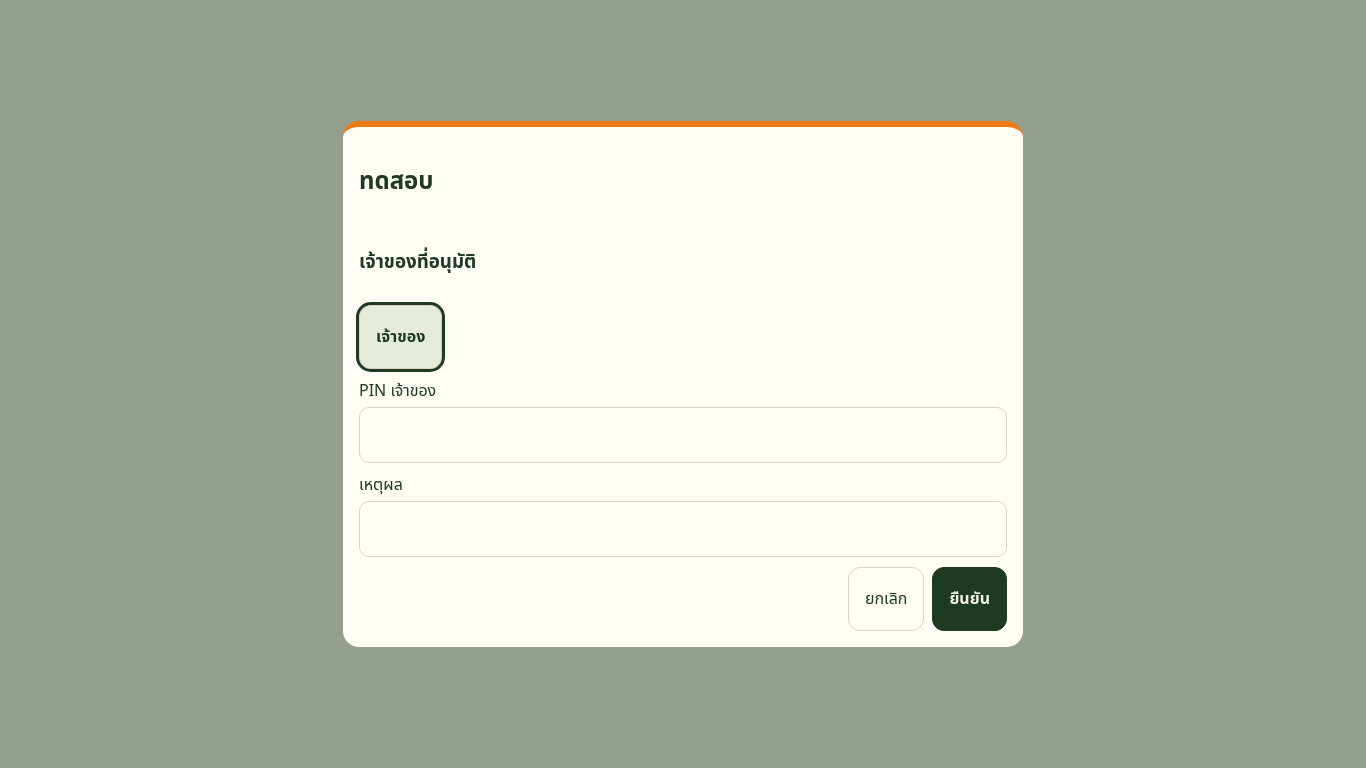
Test case: OwnerApprovalDialog (fix round 2, parked Low; widened per security review) › clears the PIN field once the caller reports PIN_LOCKED (the 5th wrong try)
Type "9999" into the field with test id "approval-pin" at (683, 435), box [359, 407, 1007, 463]
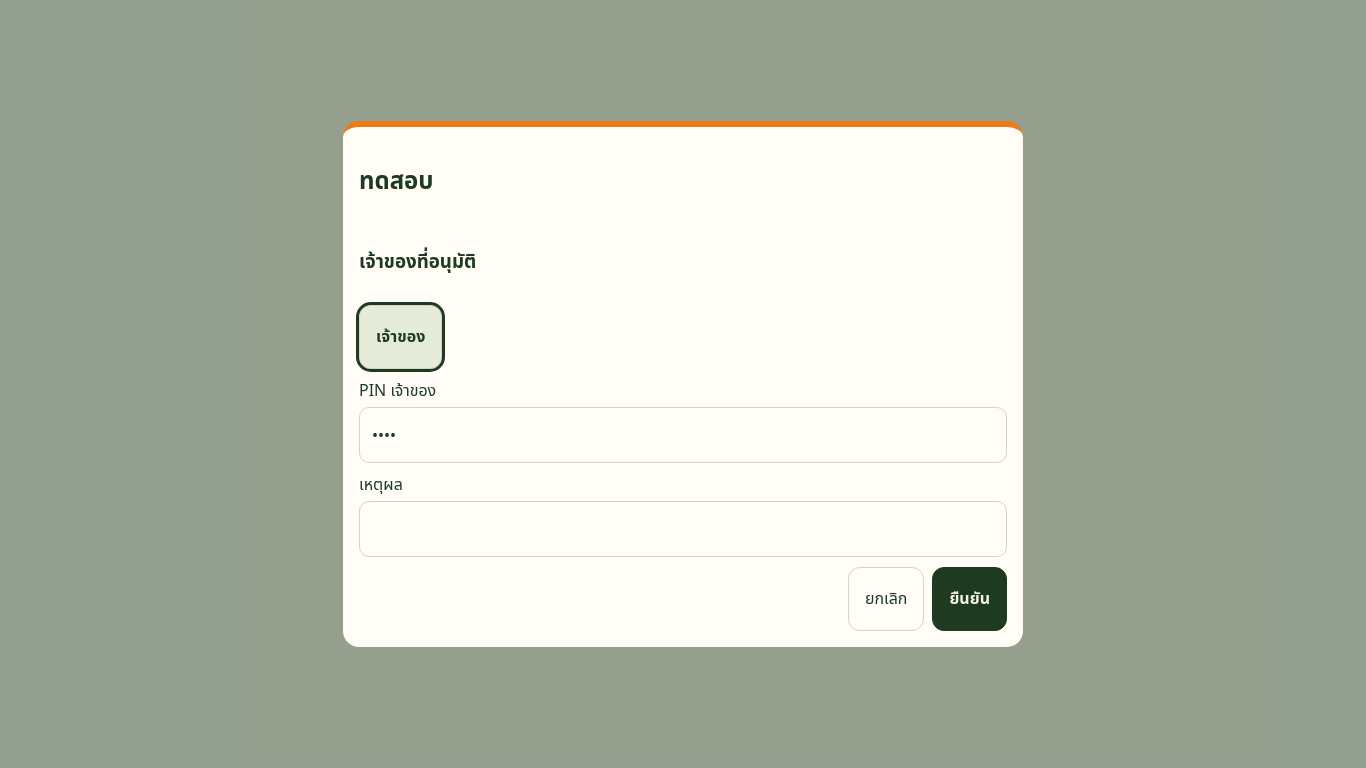
Type "เหตุผล" into the field with test id "approval-reason" at (683, 529), box [359, 501, 1007, 557]
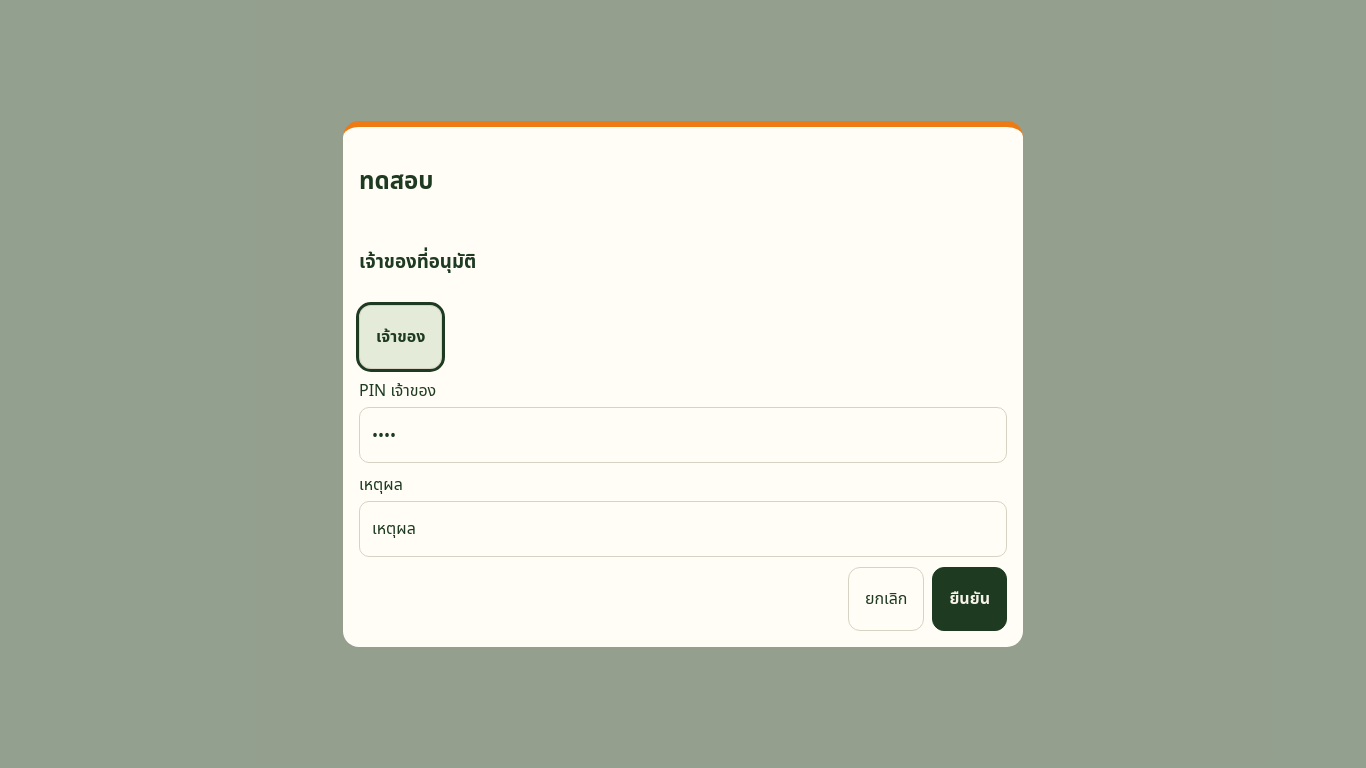
Click the button with test id "approval-ok" at (970, 599), box [932, 567, 1007, 631]
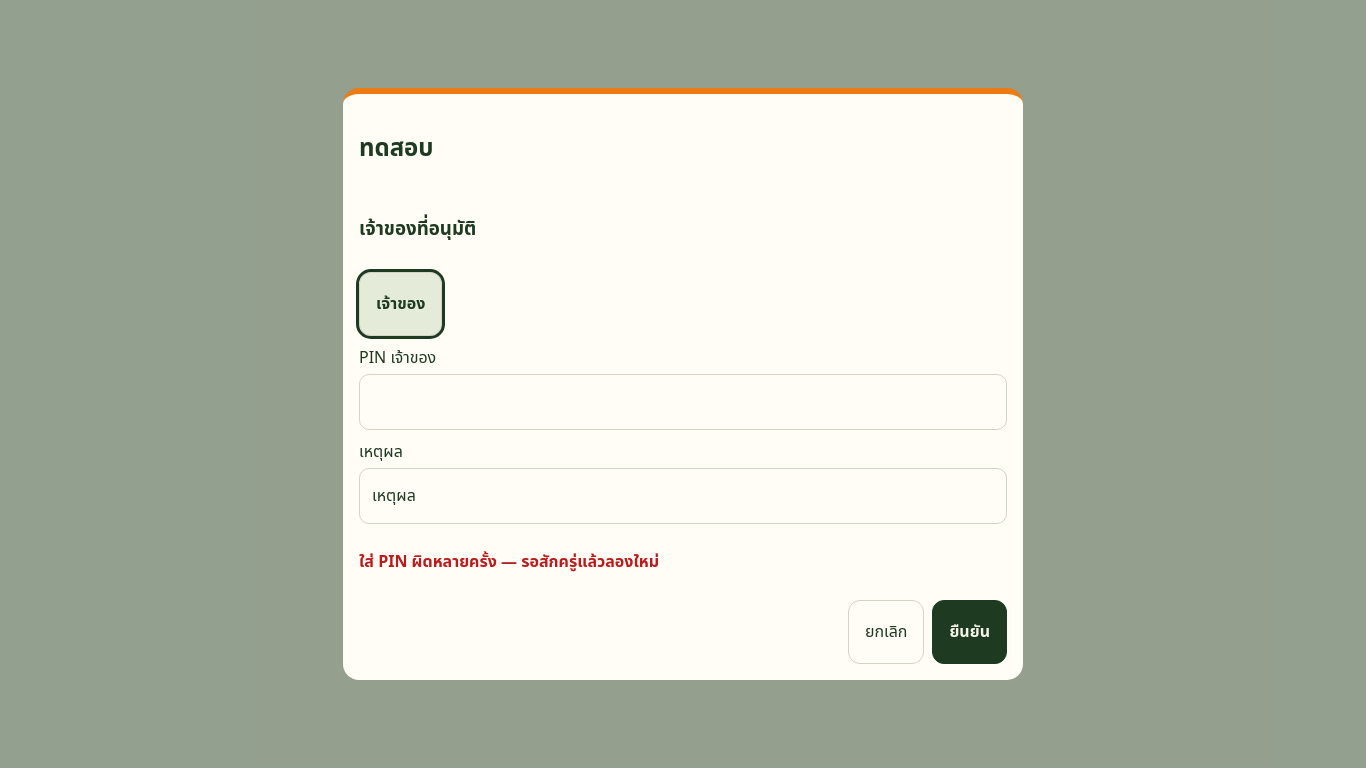
Expected: the message reads "ใส่ PIN ผิดหลายครั้ง — รอสักครู่แล้วลองใหม่", [359, 550, 659, 572]
Expected: the field with test id "approval-pin" is empty, [359, 374, 1007, 430]
